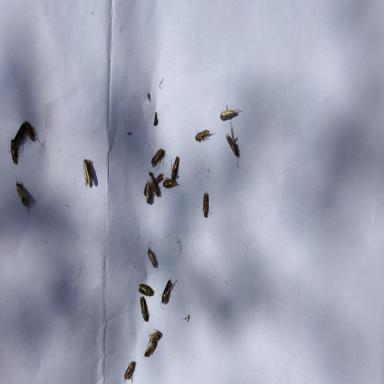pbw: (16, 174, 31, 213), (160, 278, 176, 309), (202, 190, 214, 218), (124, 357, 136, 384), (220, 104, 240, 120), (13, 122, 26, 146), (194, 126, 212, 143), (146, 328, 163, 346), (7, 139, 18, 165), (151, 147, 165, 167), (83, 158, 92, 187), (143, 340, 156, 360), (137, 283, 154, 298), (140, 295, 149, 322), (148, 240, 156, 269), (149, 175, 159, 197), (24, 120, 34, 140), (170, 156, 179, 178), (163, 176, 179, 188), (146, 179, 151, 203), (155, 172, 164, 183)
